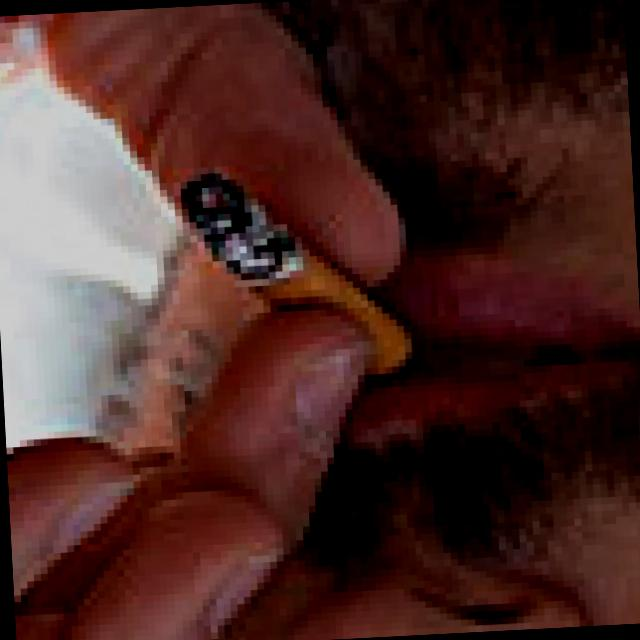smoke: (182, 162, 298, 306)
